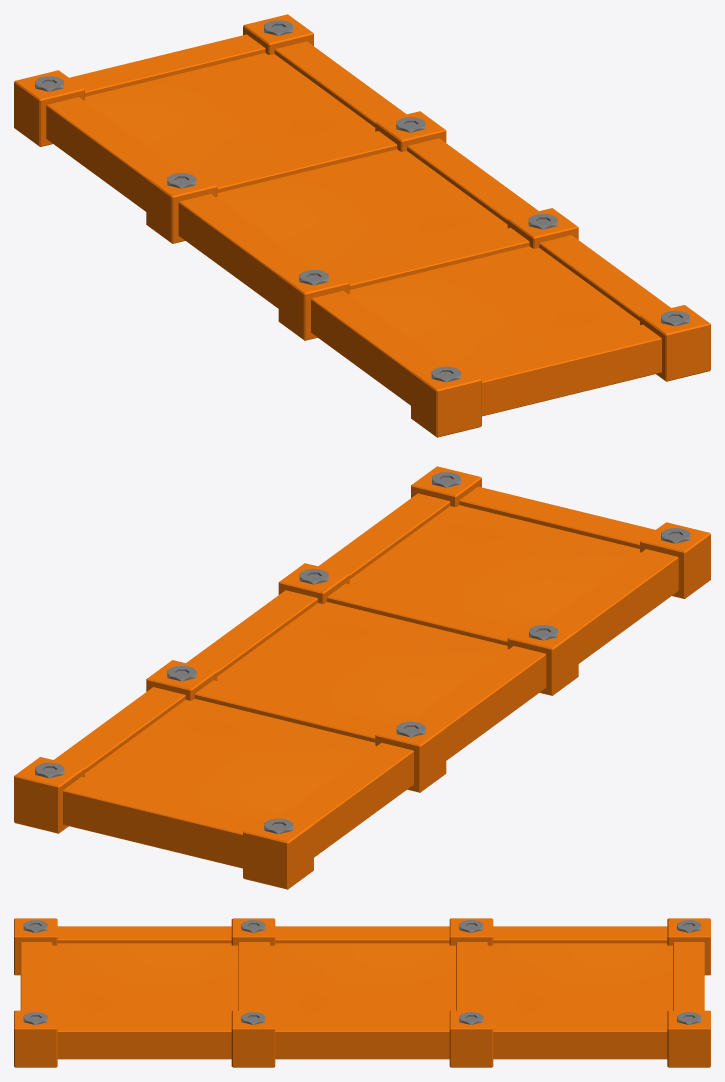
Rendered from FramedSquareTripleYellow.fbx.
The picture shows the model from 3 angles, top to bottom: view 1: azimuth 30°, elevation 25°; view 2: azimuth 150°, elevation 25°; view 3: azimuth 270°, elevation 25°; orthographic projection. The views are drawn at different scales.
Visible parts, largest first — view 1: Cube, Cube.001; view 2: Cube, Cube.001; view 3: Cube, Cube.001.
Part boxes in pixels (box(x1,y1,x2,y2)): Cube: box(14, 14, 710, 437); Cube.001: box(35, 20, 689, 382); Cube: box(14, 466, 710, 889); Cube.001: box(35, 472, 690, 834); Cube: box(14, 918, 710, 1067); Cube.001: box(23, 920, 700, 1024).
Size of the model in its own units: 6 by 1.05 by 16.
